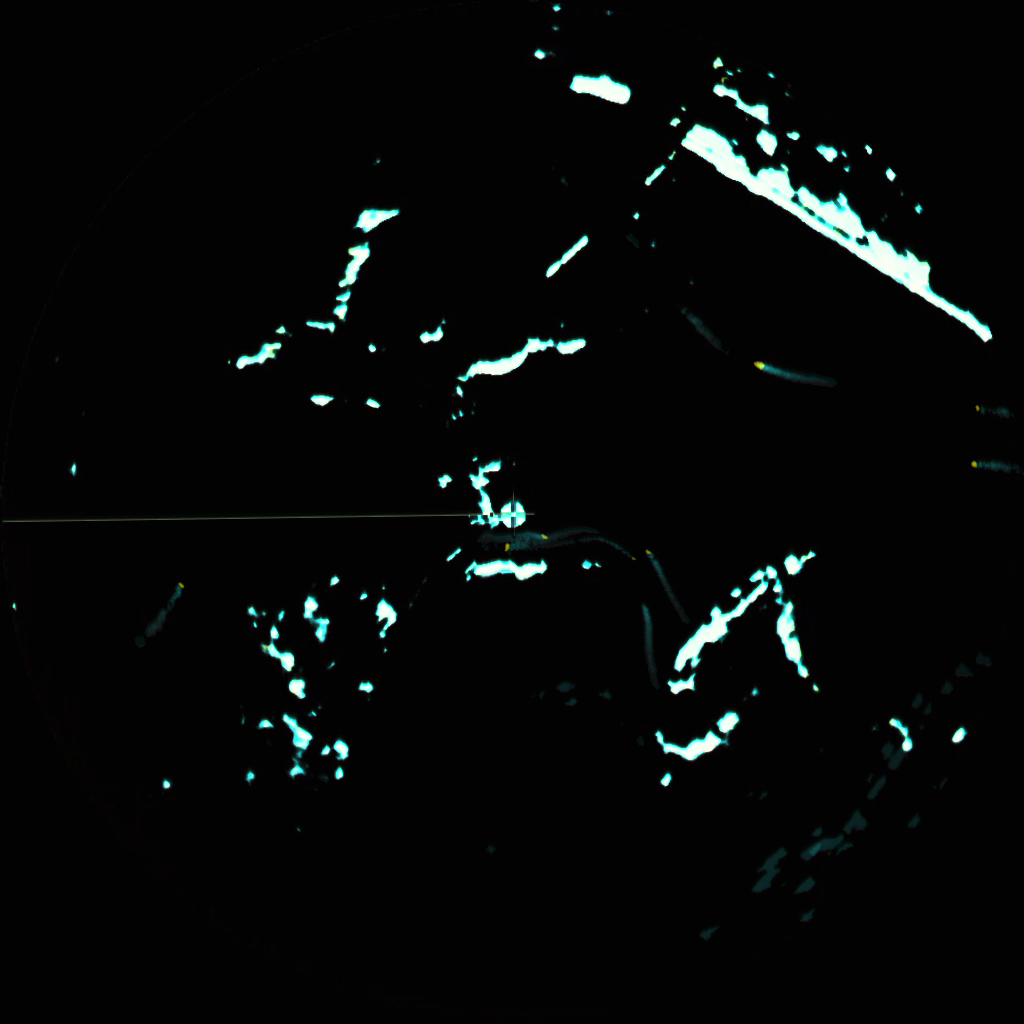B: (150, 579, 189, 639), (756, 358, 824, 388), (644, 546, 677, 597), (638, 597, 657, 665), (499, 536, 565, 552), (602, 538, 640, 561), (967, 456, 1012, 475), (972, 398, 1014, 418), (488, 531, 553, 542)
